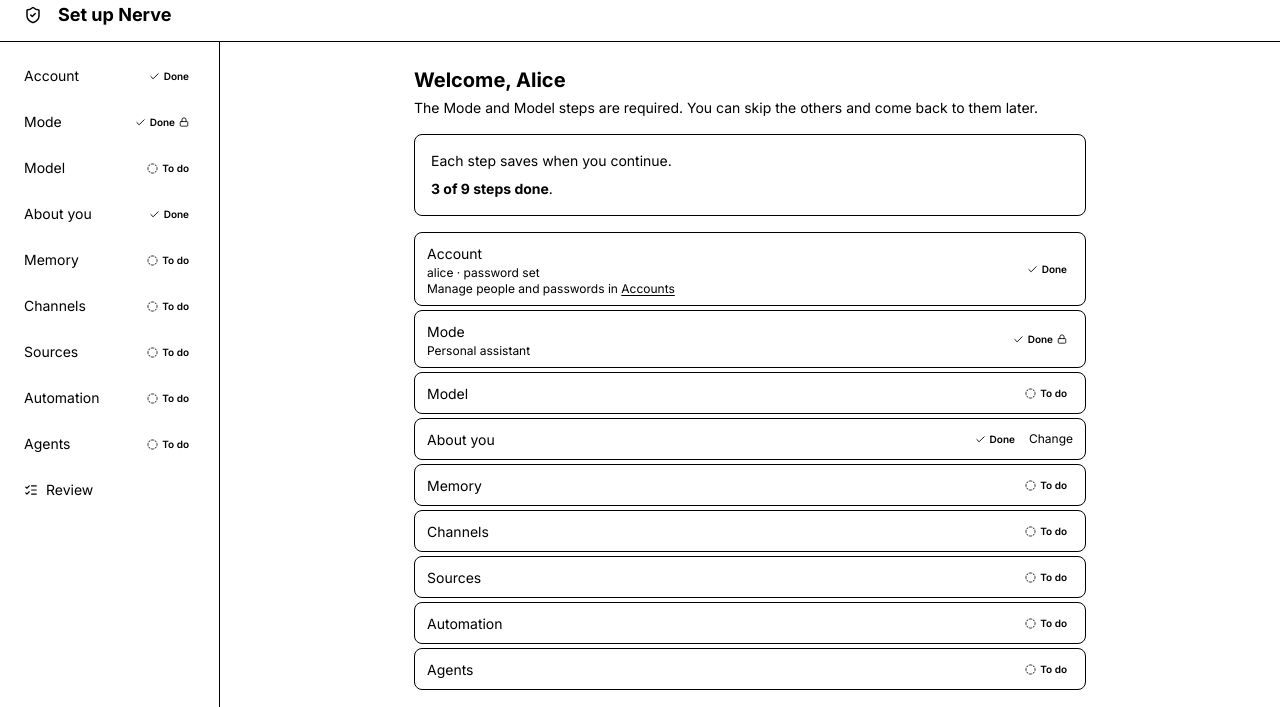
editing a step from the Overview or the Review › Back from a step opened with "Change" also returns to where it was opened from
This screenshot has width=1280, height=707.
Click the link "Change" at (1051, 439), box [1029,431,1073,447]
(page scrolled)
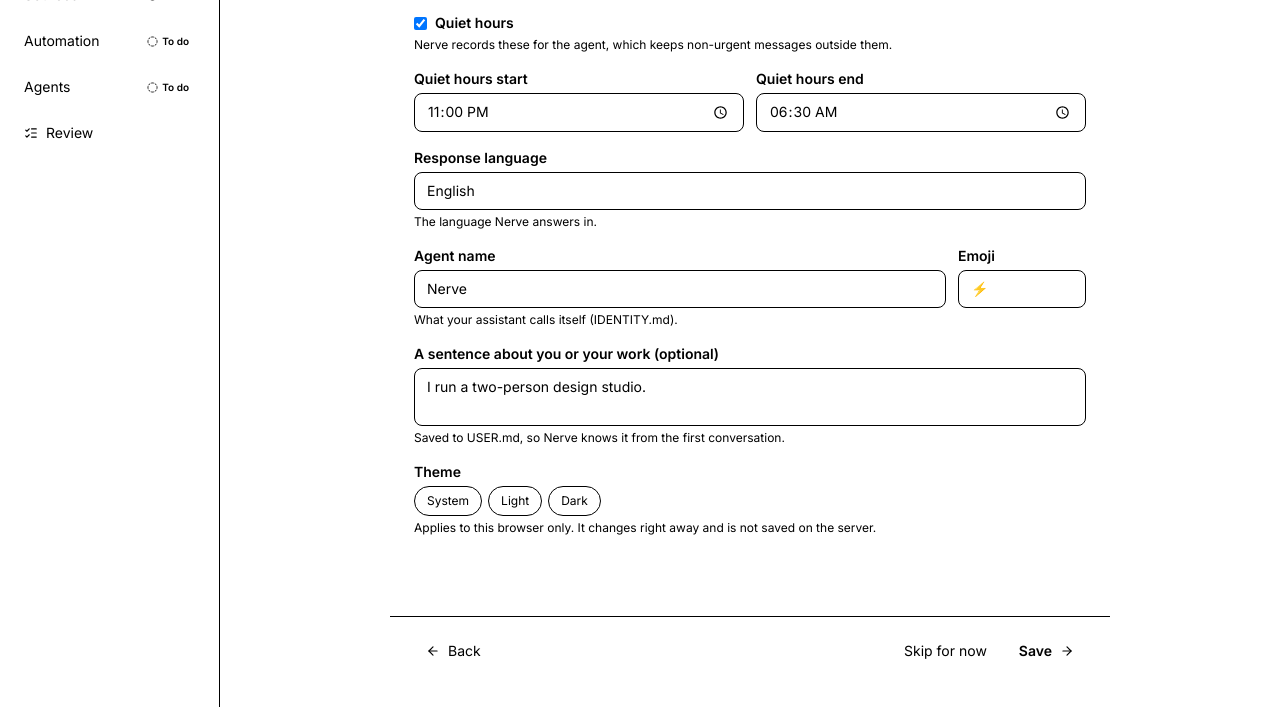
Click the button "Back" at (453, 651), box [414,629,493,673]
(page scrolled)
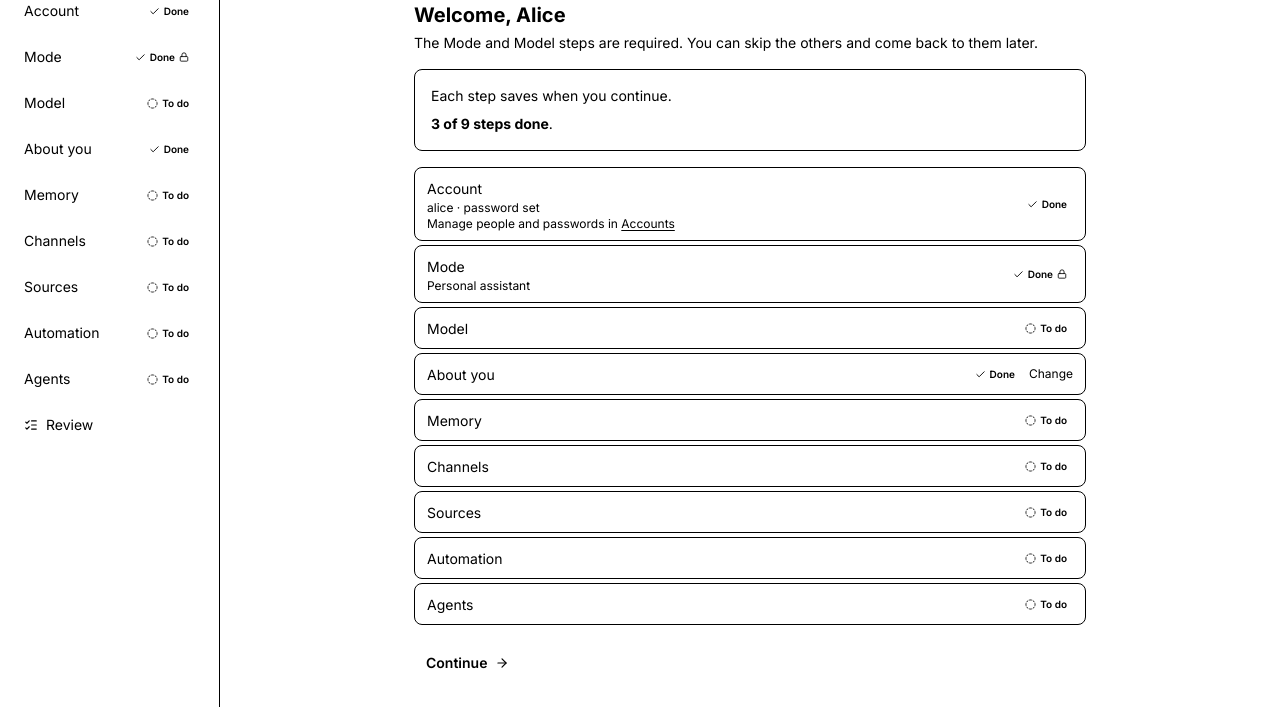
Expected: the heading "Welcome, Alice" is shown, [414,3,566,27]
